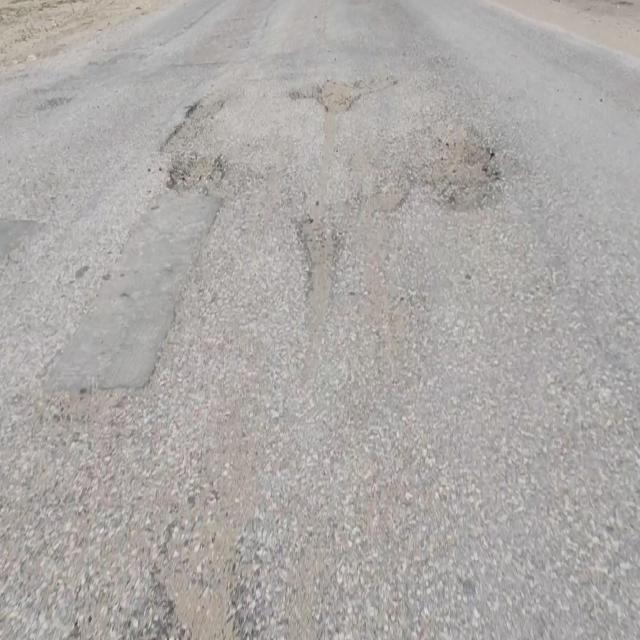Potholes: (149, 492, 246, 640), (411, 119, 502, 210), (293, 200, 342, 348), (158, 96, 224, 153), (287, 76, 374, 116), (167, 147, 230, 198)
